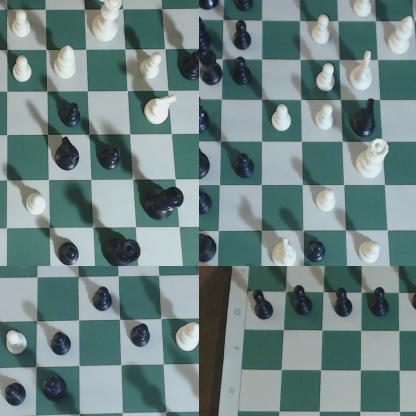black-bishop: (231, 19, 256, 51), (42, 374, 69, 402), (230, 58, 256, 86), (200, 12, 215, 56), (183, 46, 199, 85), (236, 1, 256, 14)
black-king: (144, 182, 184, 223)
black-knight: (53, 135, 82, 175), (352, 97, 380, 138), (200, 93, 211, 136)
black-pawn: (47, 327, 78, 361), (98, 141, 127, 175), (128, 322, 155, 356), (330, 288, 357, 322), (368, 285, 393, 321), (249, 288, 276, 321), (59, 100, 84, 133), (233, 150, 258, 182), (294, 279, 315, 316), (4, 384, 29, 413), (94, 282, 115, 316), (56, 239, 82, 266), (306, 240, 327, 264), (200, 188, 216, 216), (409, 276, 416, 316)
black-queen: (106, 230, 144, 266), (200, 138, 214, 181)
black-rook: (200, 49, 225, 87), (200, 234, 220, 263)
white-bishop: (389, 16, 416, 56), (54, 46, 77, 84), (176, 323, 199, 358)
white-king: (90, 1, 126, 43)
white-knight: (351, 49, 377, 94), (145, 93, 179, 127), (270, 236, 299, 266)
white-pawn: (5, 327, 30, 363), (13, 54, 37, 90), (313, 103, 339, 133), (314, 64, 339, 95), (10, 10, 33, 43), (311, 12, 333, 46), (25, 192, 49, 220), (143, 53, 163, 86), (271, 104, 293, 134), (357, 241, 384, 265), (315, 189, 340, 212), (352, 1, 376, 20)
white-queen: (355, 139, 392, 182)
